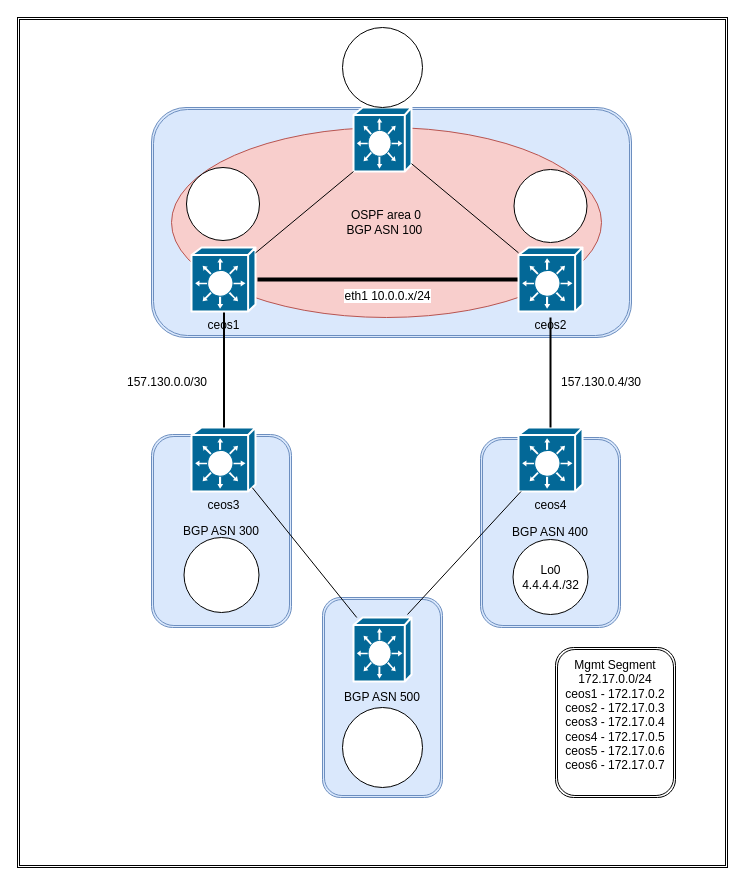
The diagram is 745 pixels wide and 885 high, and some of its shapes have lost their labels. Each missing label, with the box of its shape:
Lo0 1.1.1.1./32: (186, 166, 260, 240)
Lo0 2.2.2.2./32: (513, 168, 587, 242)
Lo0 3.3.3.3./32: (183, 536, 259, 612)
Lo0 5.5.5.5/32: (342, 706, 422, 788)
Lo0 6.6.6.6/32: (342, 26, 422, 108)
